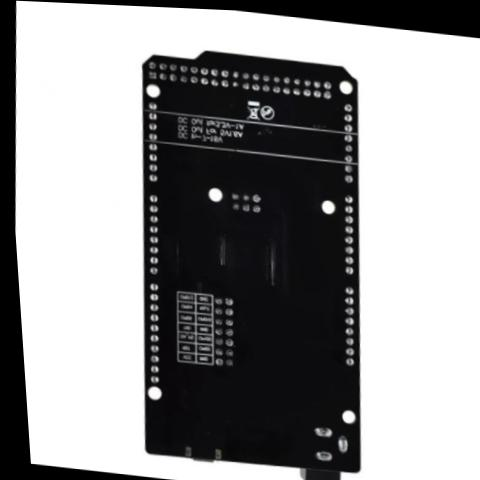Arduino-Mega: (85, 20, 404, 480)
